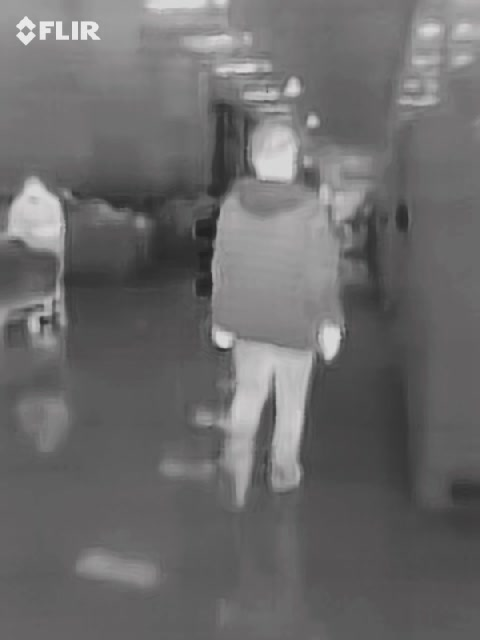head: (247, 119, 301, 183)
